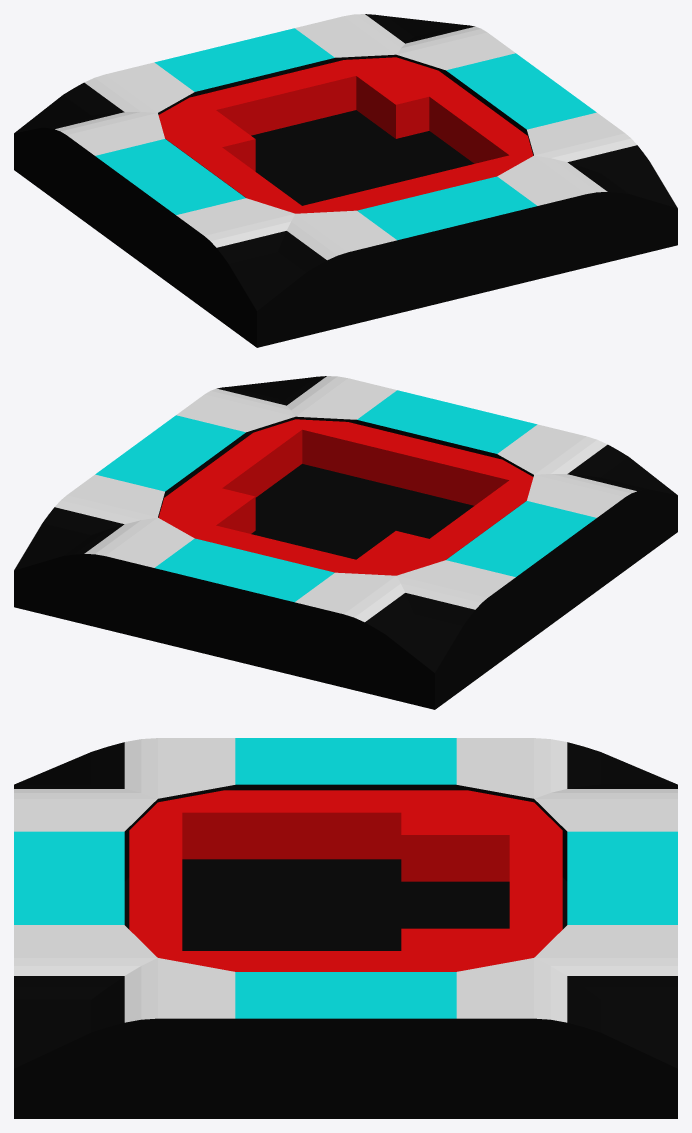
File: enemySpawnNode.fbx
3 renders of one model, top to bottom at view 1: azimuth 30°, elevation 25°; view 2: azimuth 150°, elevation 25°; view 3: azimuth 270°, elevation 25°, orthographic. The views are drawn at different scales.
Parts seen in each view (by area): view 1: Plane, Plane.001; view 2: Plane, Plane.001; view 3: Plane, Plane.001.
Boxes of the visible parts, <box> form: Plane: <box>14,14,677,347</box>; Plane.001: <box>158,57,533,213</box>; Plane: <box>14,376,677,709</box>; Plane.001: <box>158,419,533,575</box>; Plane: <box>14,738,677,1118</box>; Plane.001: <box>129,790,562,971</box>.
Size of the model in its own units: 600 by 108 by 600.
